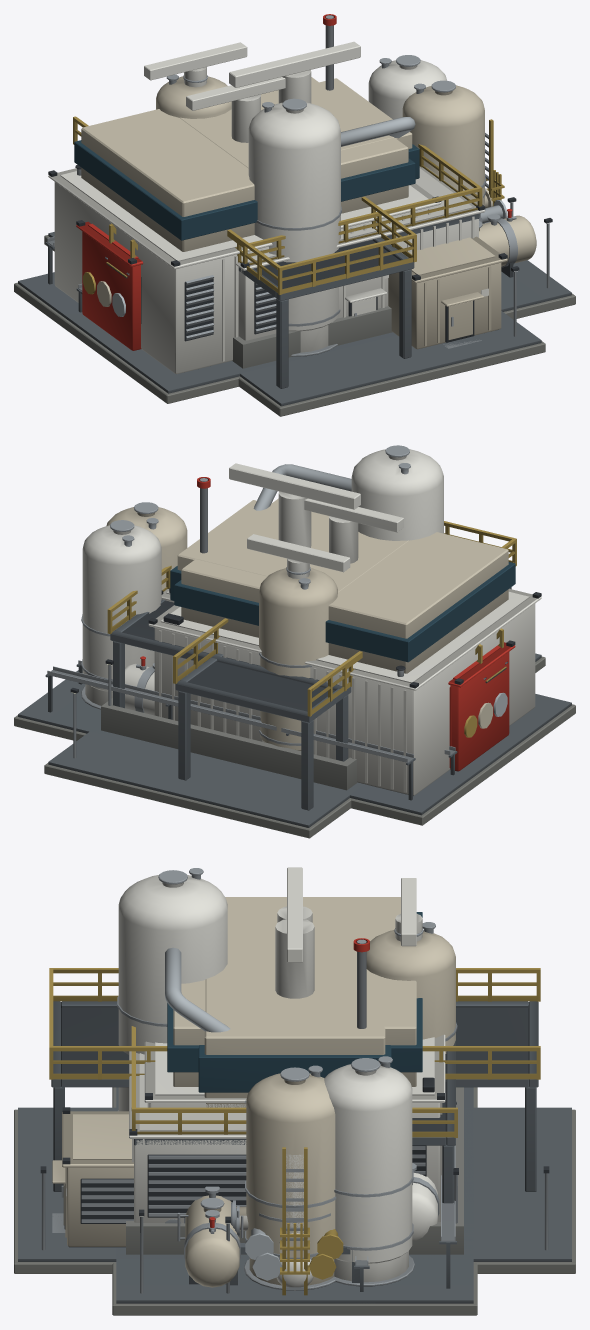
The model's file is buildings.glb.
3 views of the same model, one above another, from view 1: azimuth 30°, elevation 25°; view 2: azimuth 150°, elevation 25°; view 3: azimuth 270°, elevation 25° (orthographic). The views are drawn at different scales.
Parts seen in each view (by area): view 1: bld_3x2_a, bld_2x3_a, bld_2x2_a, bld_3x1_c, bld_3x1_b, bld_2x2_b, bld_3x1_a; view 2: bld_3x2_a, bld_2x3_a, bld_2x2_a, bld_2x2_b, bld_3x1_b, bld_3x1_c, bld_3x1_a; view 3: bld_2x3_a, bld_3x2_a, bld_2x2_a, bld_3x1_c, bld_3x1_a, bld_2x2_b, bld_3x1_b, bld_3x1_d.
Boxes of the visible parts, left/top/right/bottom form: bld_3x2_a: left=14, top=55, right=575, bottom=403; bld_2x3_a: left=44, top=42, right=545, bottom=416; bld_2x2_a: left=180, top=14, right=485, bottom=377; bld_3x1_c: left=105, top=80, right=504, bottom=278; bld_3x1_b: left=76, top=189, right=516, bottom=350; bld_2x2_b: left=232, top=306, right=392, bottom=368; bld_3x1_a: left=55, top=188, right=507, bottom=371; bld_3x2_a: left=14, top=498, right=575, bottom=825; bld_2x3_a: left=44, top=445, right=545, bottom=838; bld_2x2_a: left=105, top=463, right=408, bottom=794; bld_2x2_b: left=101, top=698, right=357, bottom=790; bld_3x1_b: left=448, top=640, right=515, bottom=771; bld_3x1_c: left=106, top=502, right=507, bottom=683; bld_3x1_a: left=76, top=660, right=534, bottom=794; bld_2x3_a: left=14, top=868, right=575, bottom=1273; bld_3x2_a: left=112, top=867, right=477, bottom=1315; bld_2x2_a: left=113, top=876, right=476, bottom=1263; bld_3x1_c: left=231, top=1065, right=337, bottom=1295; bld_3x1_a: left=211, top=1228, right=378, bottom=1315; bld_2x2_b: left=126, top=1087, right=463, bottom=1254; bld_3x1_b: left=225, top=1154, right=335, bottom=1293; bld_3x1_d: left=252, top=1252, right=336, bottom=1280.
Bounding box in the file's own units: 2.86 × 1.64 × 2.86.
